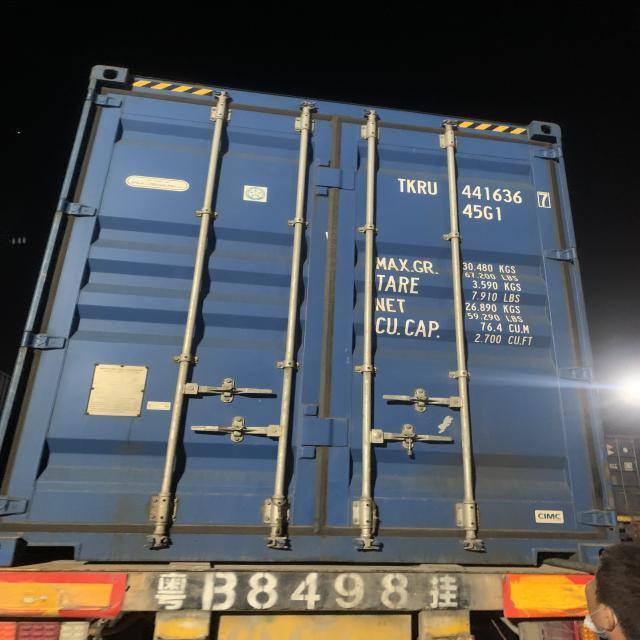ISO: (463, 202, 505, 222)
container_number: (398, 180, 551, 204)
